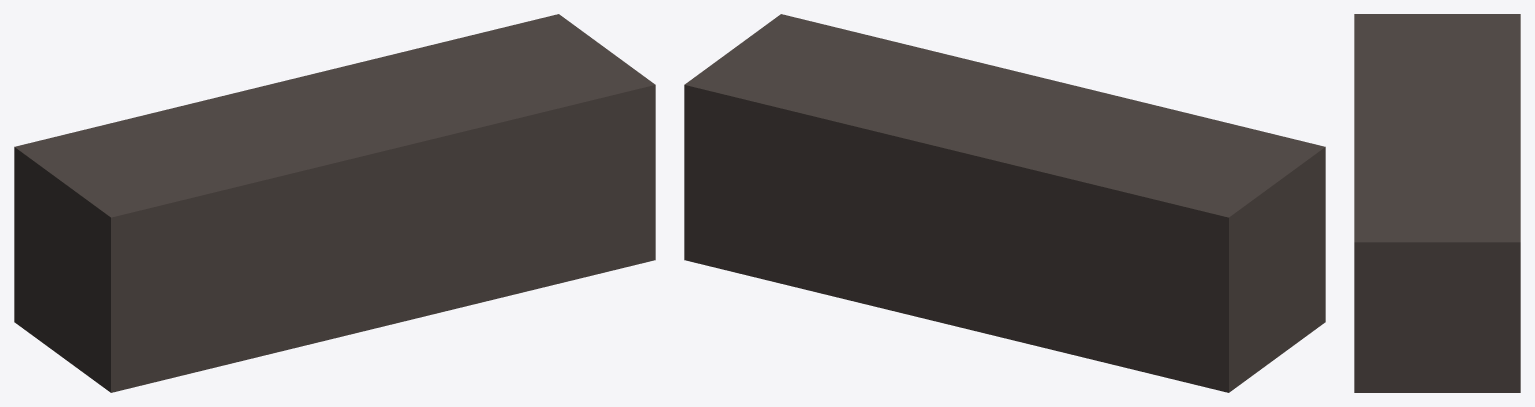
File: Key134.obj
3 renders of one model, left to right at view 1: azimuth 30°, elevation 25°; view 2: azimuth 150°, elevation 25°; view 3: azimuth 270°, elevation 25°, orthographic. The views are drawn at different scales.
Parts seen in each view (by area): view 1: Key134; view 2: Key134; view 3: Key134.
Boxes of the visible parts, x1=… form: Key134: x1=14, y1=14, x2=655, y2=392; Key134: x1=684, y1=14, x2=1325, y2=392; Key134: x1=1354, y1=14, x2=1520, y2=392.
Bounding box in the file's own units: 13 × 4 × 4.
Materials: 1 (1 with a texture image).
